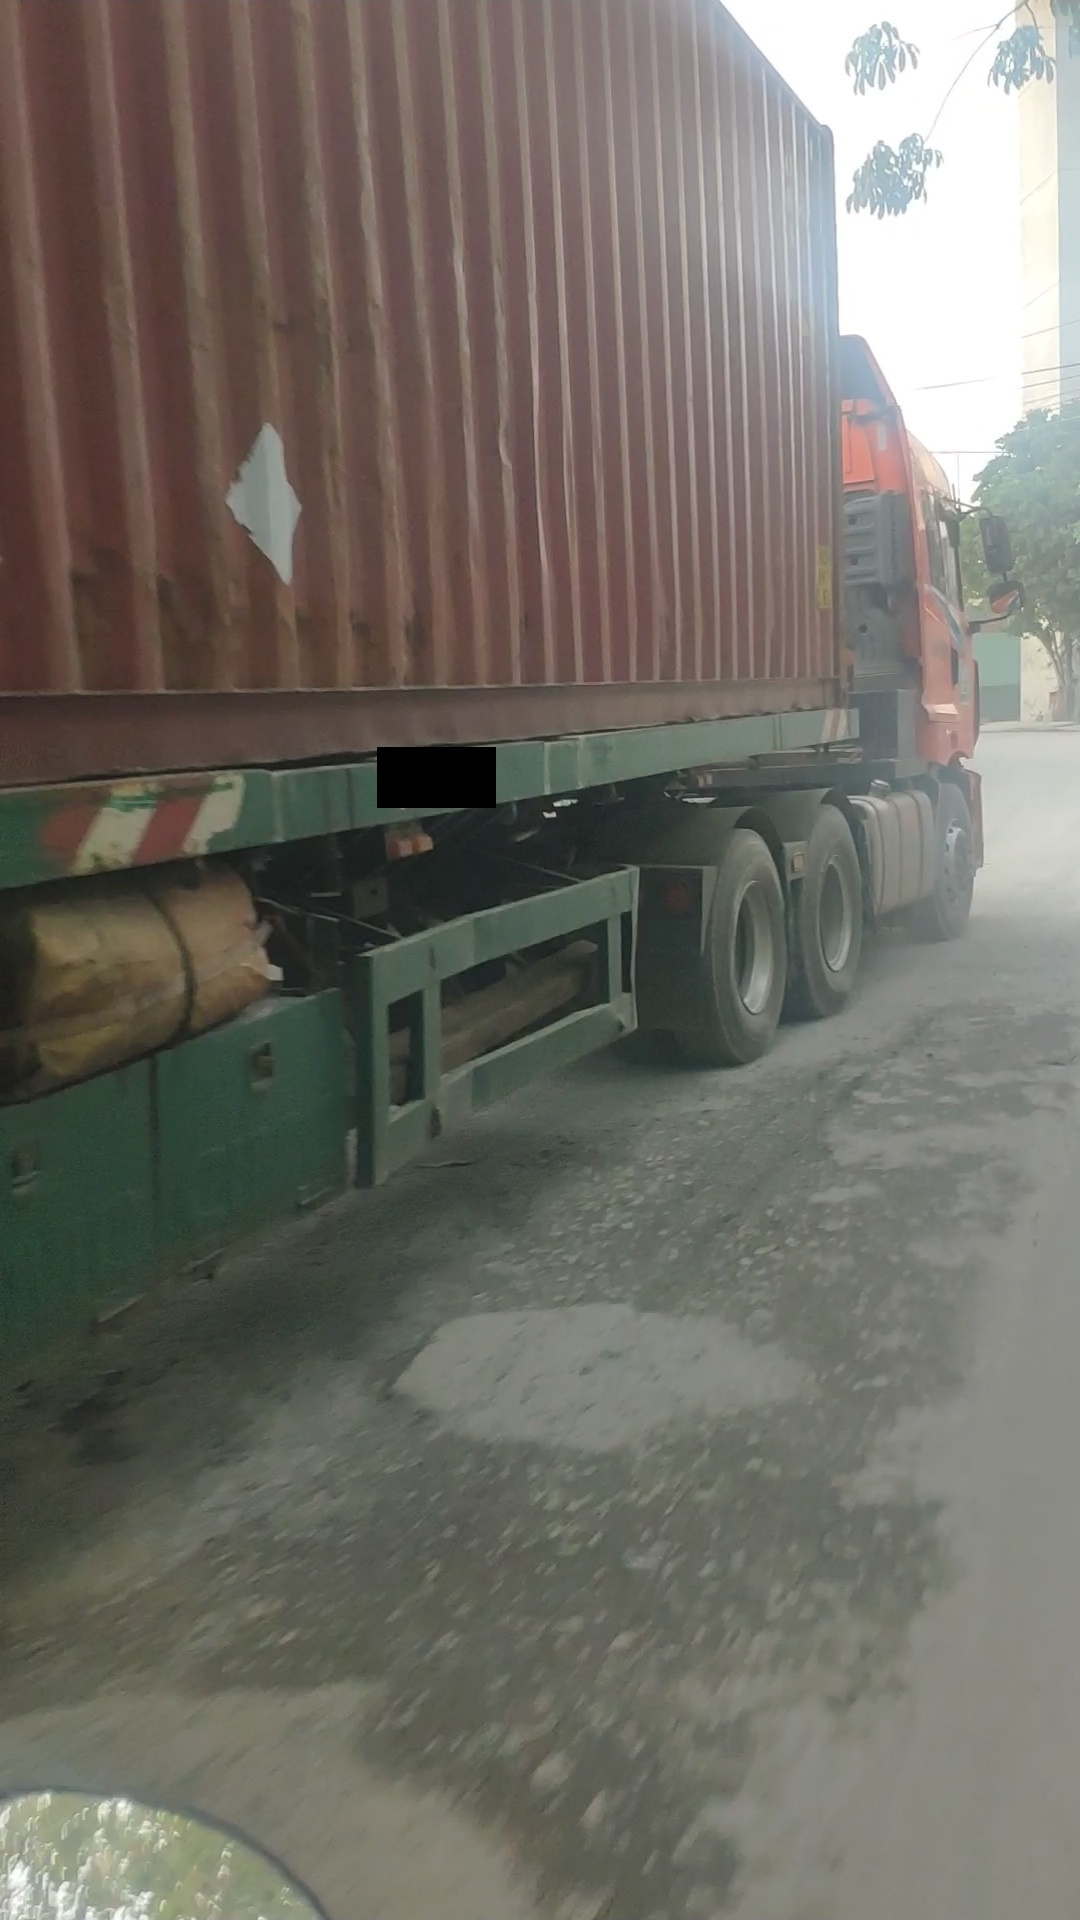hole: (377, 1290, 825, 1462)
